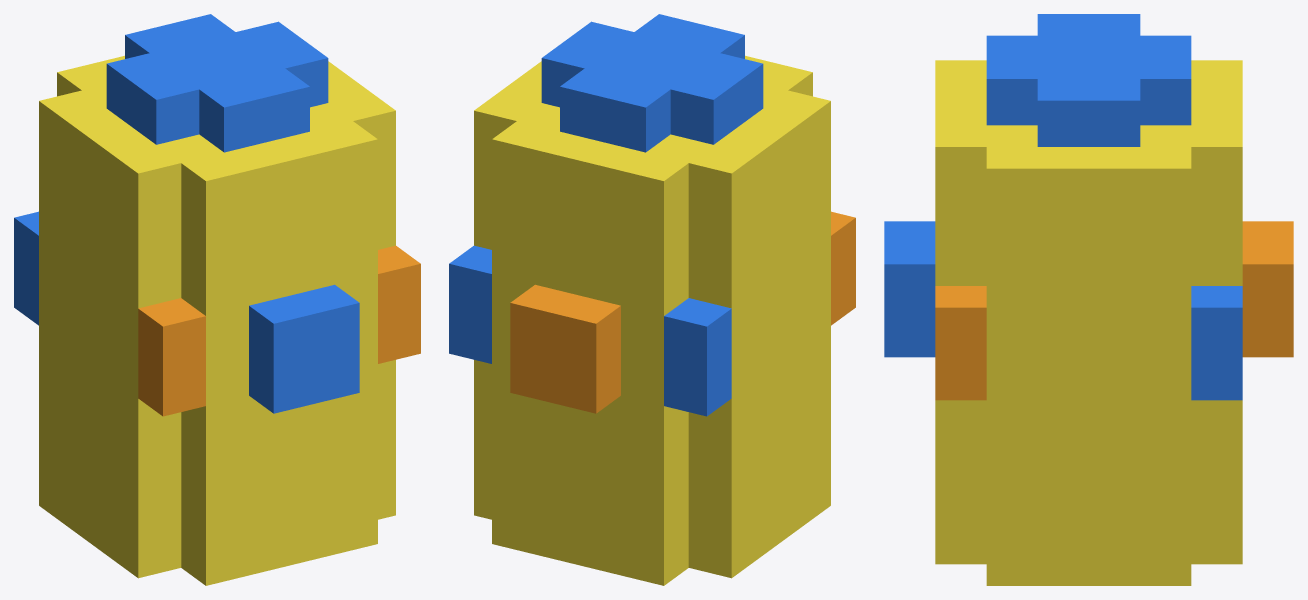
The model's file is BLUE SPINNER.obj.
3 renders of one model, left to right at view 1: azimuth 30°, elevation 25°; view 2: azimuth 150°, elevation 25°; view 3: azimuth 270°, elevation 25°, orthographic. The views are drawn at different scales.
Bounding box in the file's own units: 0.6 × 1 × 0.8.
